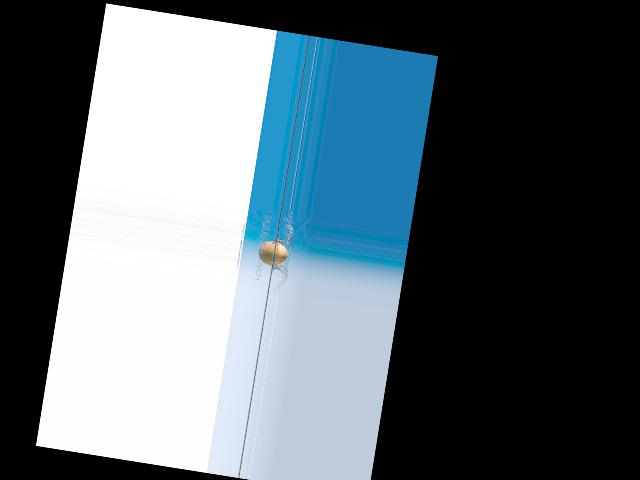egg: (256, 239, 289, 268)
